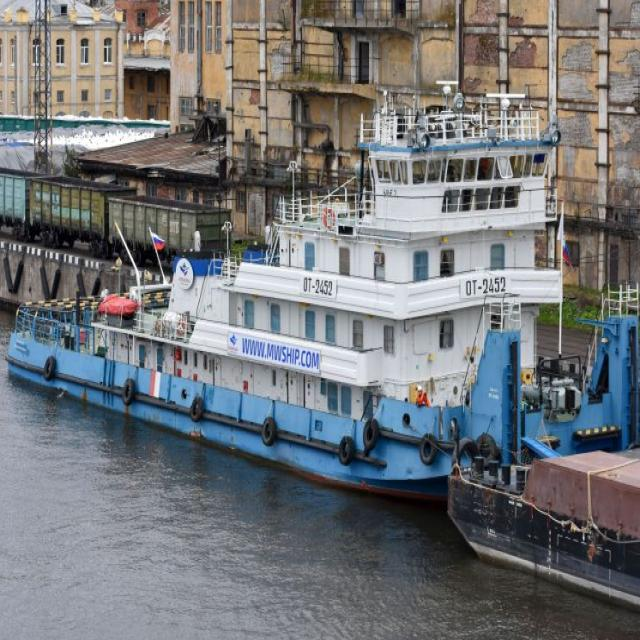tugboat: (2, 75, 640, 523)
